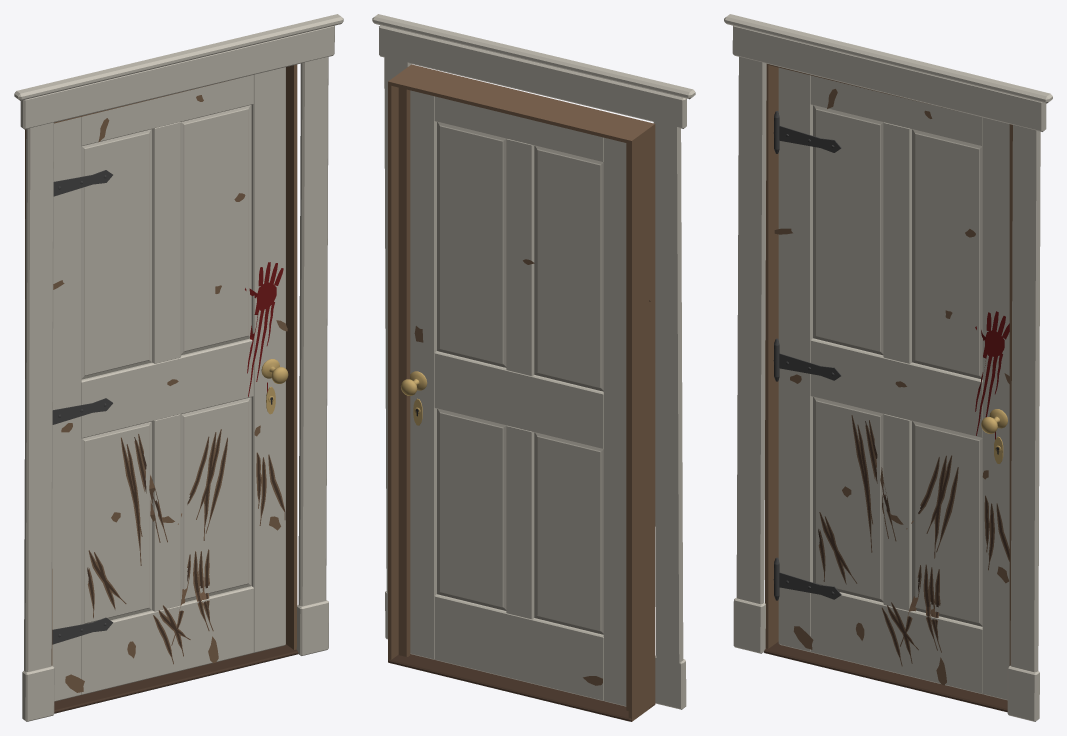
Rendered from door.glb.
The picture shows the model from 3 angles, left to right: view 1: azimuth 30°, elevation 25°; view 2: azimuth 150°, elevation 25°; view 3: azimuth 330°, elevation 25°; orthographic projection.
Visible parts, largest first — view 1: MOV_door_leaf, door_static; view 2: MOV_door_leaf, door_static; view 3: MOV_door_leaf, door_static.
Boxes of the visible parts, <box> form: MOV_door_leaf: <box>52,67,288,701</box>; door_static: <box>14,14,343,721</box>; MOV_door_leaf: <box>401,90,650,706</box>; door_static: <box>372,14,695,721</box>; MOV_door_leaf: <box>774,67,1009,700</box>; door_static: <box>724,14,1052,721</box>.
Bounding box in the file's own units: 1.18 × 2.19 × 0.2025.
